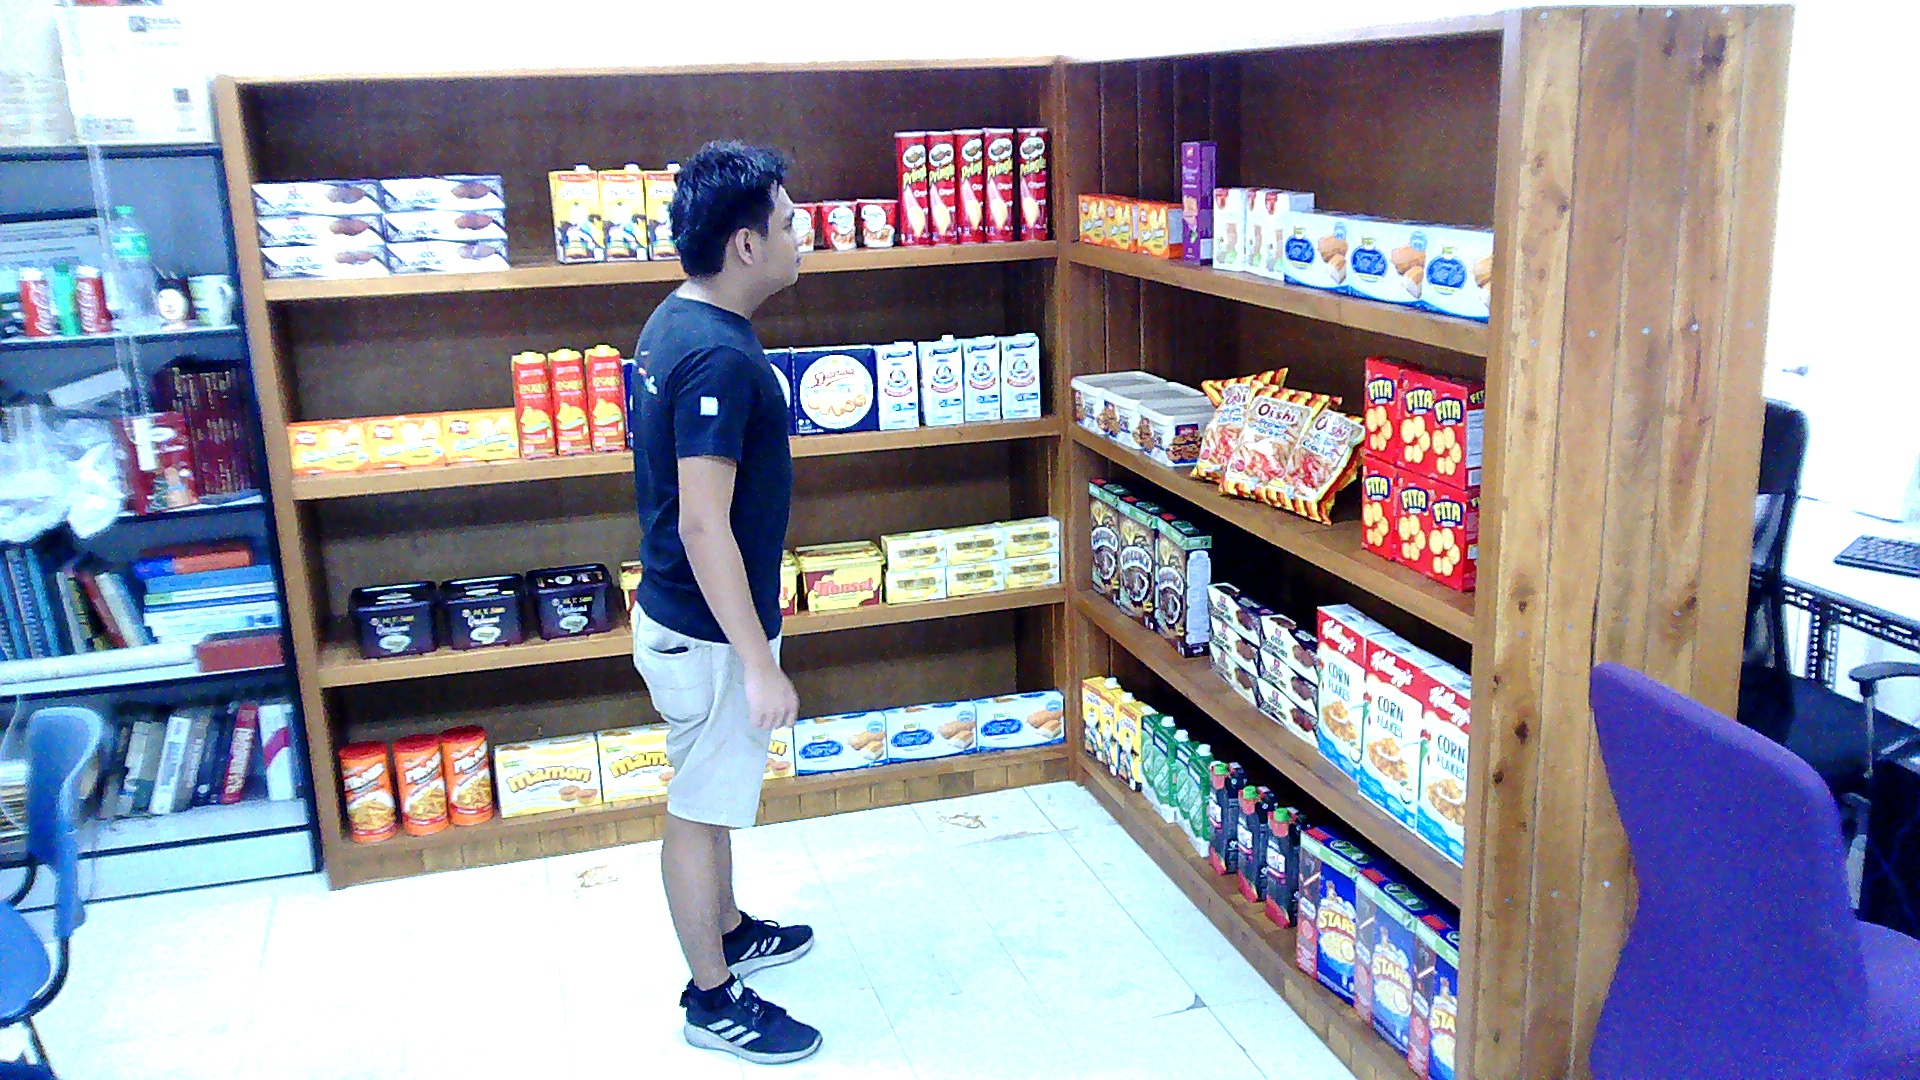Bear brand: (872, 340, 917, 430), (918, 333, 963, 423), (957, 335, 999, 421), (996, 333, 1038, 419)
Buttercake: (1347, 216, 1458, 306), (1284, 207, 1377, 293), (1422, 222, 1494, 321), (792, 708, 888, 773), (969, 688, 1065, 751), (882, 699, 975, 762)
Butterlicious: (285, 416, 372, 472), (362, 412, 443, 468), (441, 407, 519, 461), (1107, 198, 1161, 252), (1077, 193, 1125, 242)
Camomille: (939, 521, 1002, 564), (995, 515, 1058, 558), (879, 529, 945, 569), (885, 567, 945, 603), (944, 560, 1001, 594), (1005, 553, 1059, 587)
Choco Crunchies: (252, 180, 378, 216), (378, 176, 504, 212), (258, 214, 384, 248), (381, 209, 504, 243), (261, 245, 387, 277), (387, 240, 507, 269)
Chuckie: (549, 164, 603, 261), (597, 161, 648, 258), (1115, 700, 1154, 792), (642, 161, 678, 258), (1079, 675, 1118, 761), (1101, 688, 1137, 774)
Danisa: (789, 344, 876, 432)
Fita: (1428, 373, 1485, 488), (1362, 356, 1422, 464), (1395, 367, 1455, 475), (1425, 478, 1479, 591), (1394, 468, 1427, 571), (1362, 456, 1395, 557)
Fresh Milk: (1151, 726, 1190, 823), (1176, 740, 1212, 837), (1140, 711, 1176, 803), (1188, 755, 1221, 854)
Grahams: (348, 581, 438, 657), (525, 563, 612, 639), (437, 572, 524, 648)
Hansel: (792, 540, 885, 610), (1136, 203, 1181, 257)
Head: (669, 137, 801, 319)
Honey Stars: (1353, 864, 1443, 1058), (1296, 824, 1386, 1008), (1407, 911, 1458, 1080)
Kellogg Corn Flakes: (1356, 633, 1449, 835), (1317, 603, 1389, 783), (1416, 666, 1470, 868), (1257, 648, 1317, 720), (1206, 580, 1272, 645), (1260, 612, 1317, 684), (1257, 679, 1317, 747), (1209, 641, 1257, 706), (1209, 614, 1257, 677)
Kimchi Noodles: (819, 198, 855, 250), (858, 198, 894, 245)
Koko Krunch: (1158, 513, 1212, 657), (1119, 494, 1167, 629), (1088, 477, 1133, 605)
Locally Mango: (510, 351, 555, 459), (546, 349, 591, 455), (585, 344, 624, 450)
Mamon: (492, 731, 600, 817), (594, 722, 672, 801)
Oishi Prawn: (1218, 378, 1344, 500), (1256, 405, 1361, 524), (1187, 366, 1286, 481), (1101, 380, 1203, 448), (1071, 368, 1167, 431), (1137, 396, 1212, 466)
Pik-nik: (338, 740, 395, 841), (392, 733, 449, 834), (441, 724, 495, 825)
Pringles: (894, 130, 930, 243), (984, 127, 1014, 240), (954, 130, 984, 243), (1017, 125, 1047, 238), (927, 133, 957, 243)
Super Fruits: (1262, 805, 1307, 927), (1236, 783, 1278, 902), (1209, 760, 1248, 873)
Wafer: (1182, 141, 1215, 263)
iHop: (1263, 189, 1314, 279), (1212, 186, 1254, 269), (1245, 187, 1281, 275)
